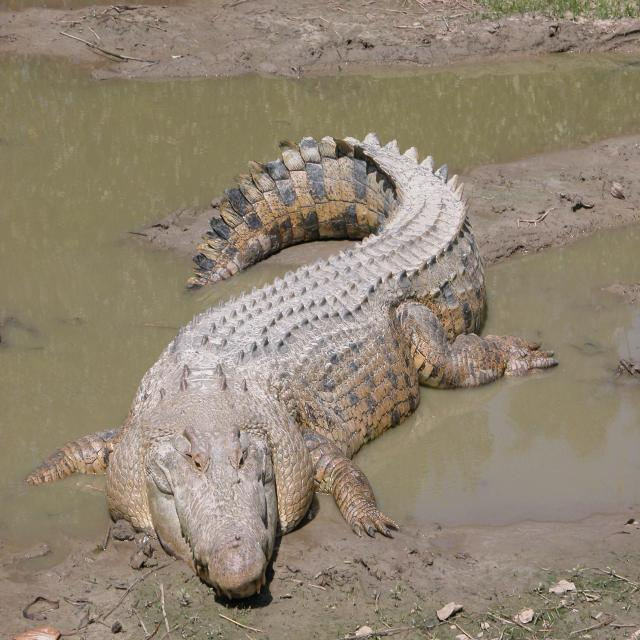crocodile: (12, 96, 580, 640)
